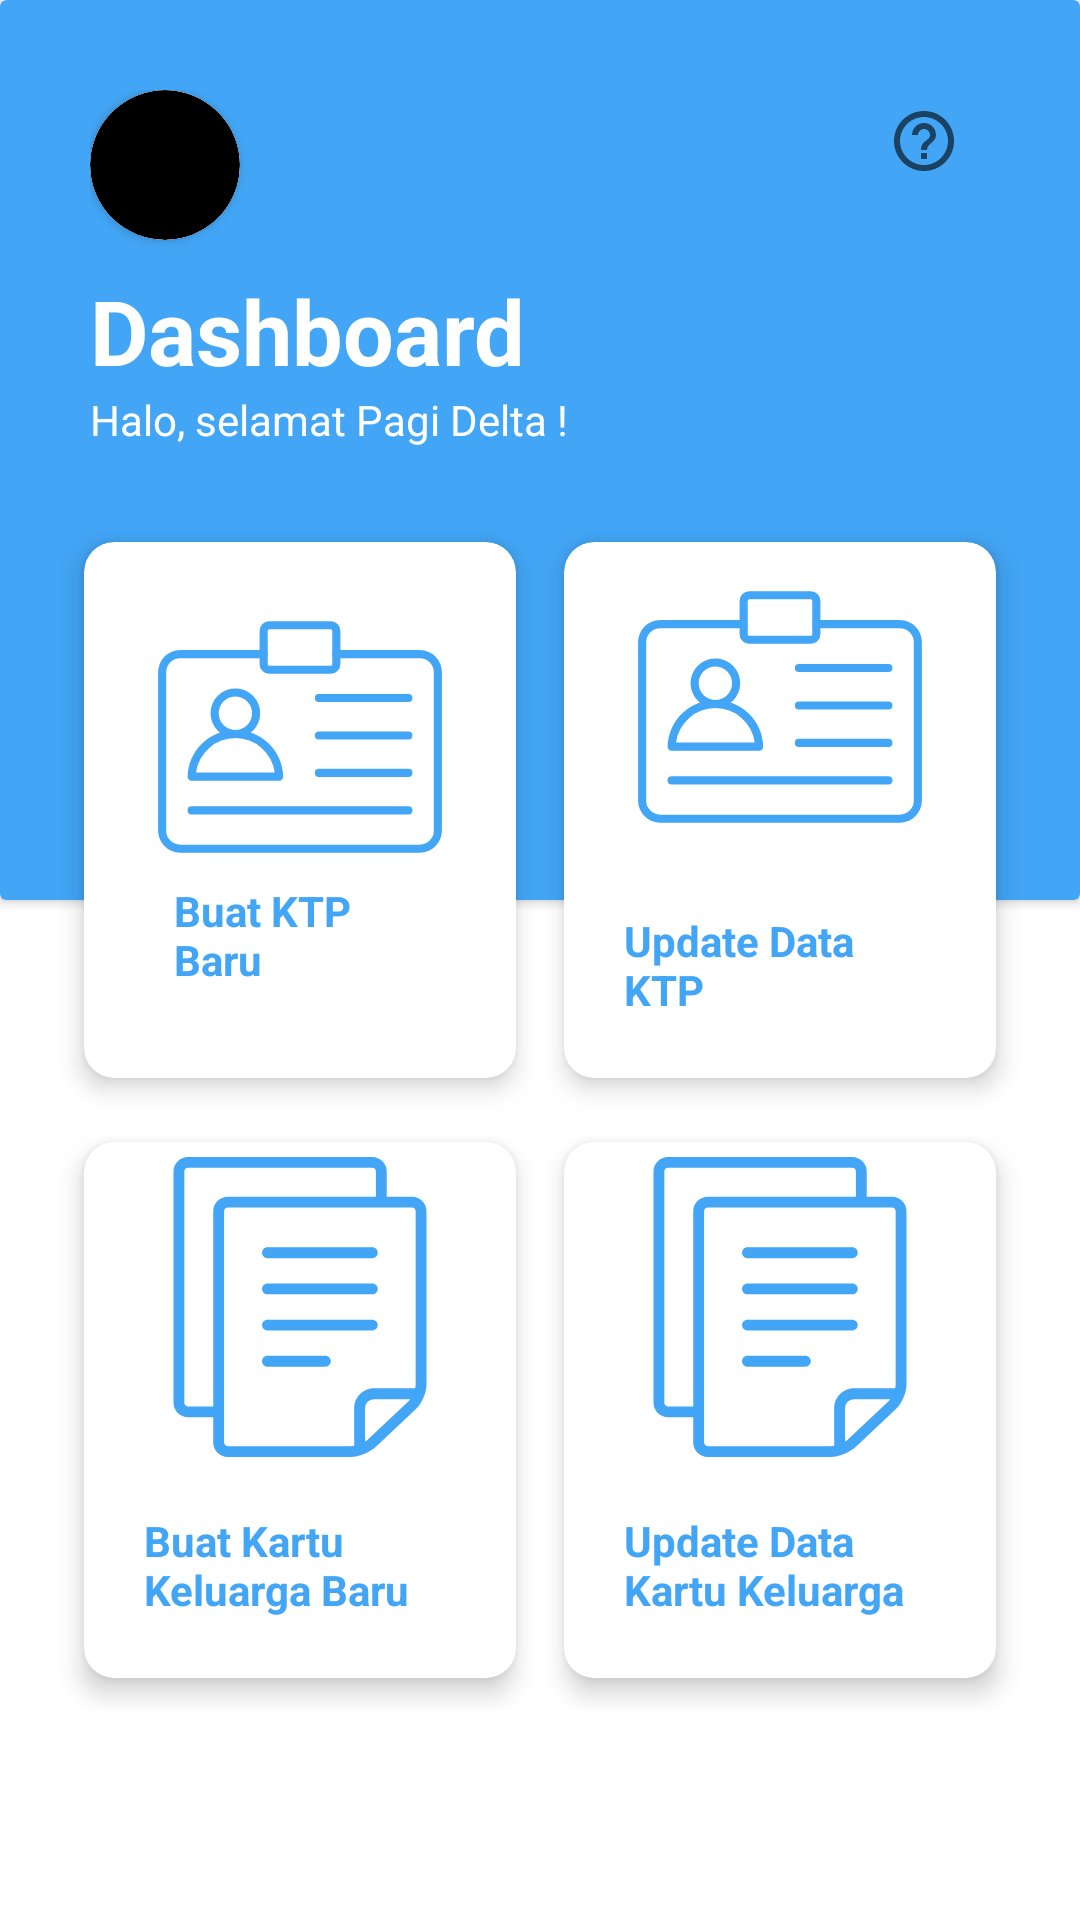

Locate icon controls on the screen. Image size 1080 × 1920, boxes as (x1, y1, x2, y2).
help: (894, 111, 954, 171)
id card: (638, 591, 922, 823), (158, 621, 442, 853)
